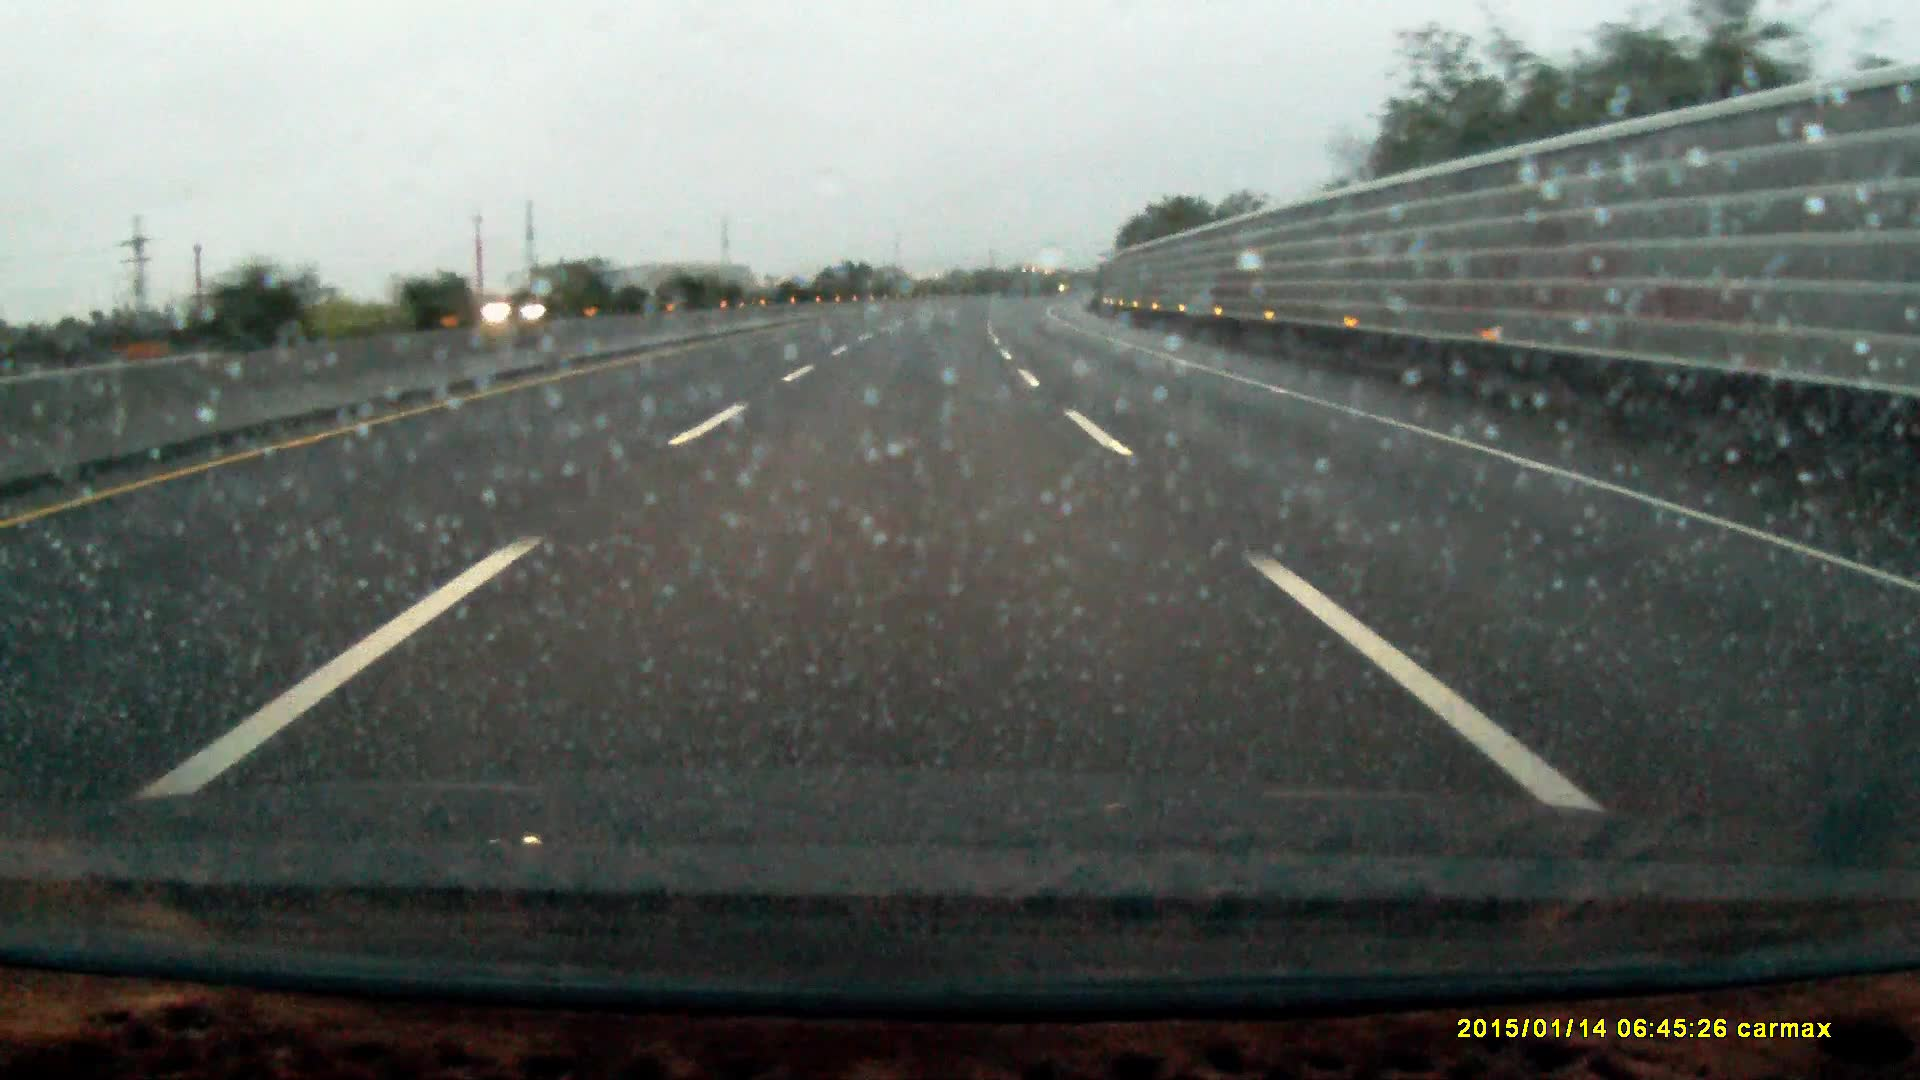vehicle: (472, 291, 570, 328)
